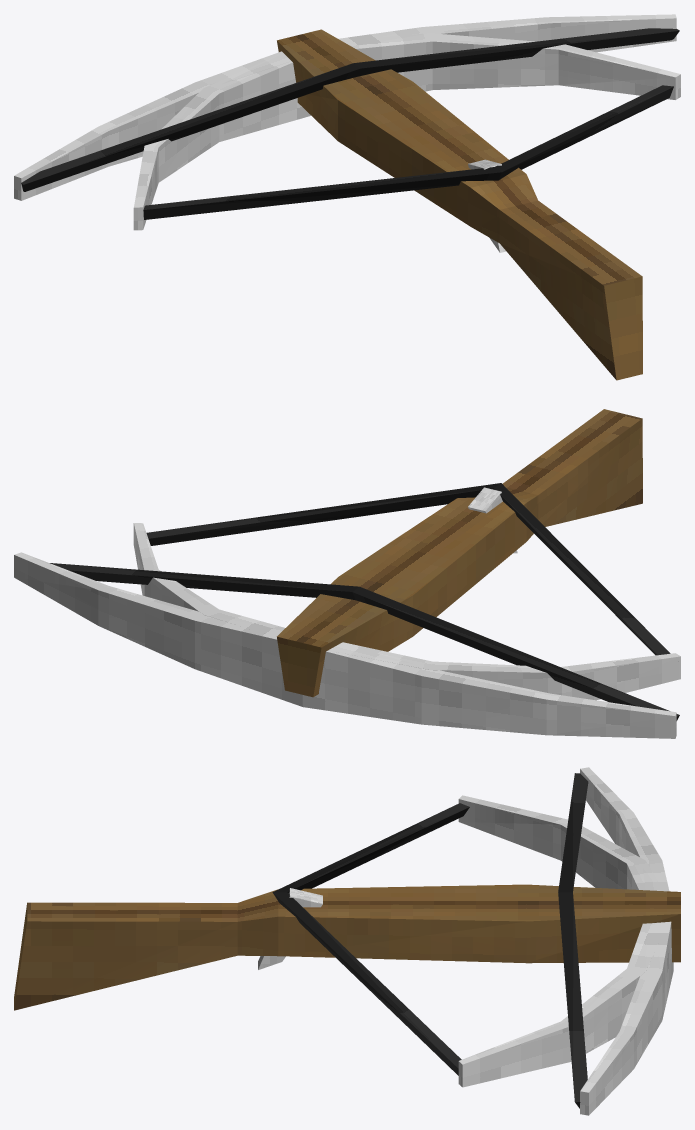
Rendered from Crossbows.glb.
3 views of the same model, one above another, from view 1: azimuth 30°, elevation 25°; view 2: azimuth 150°, elevation 25°; view 3: azimuth 270°, elevation 25° (orthographic).
Parts seen in each view (by area): view 1: Body, BowTensed, BowRelaxed, StringRelaxed, StringTensed; view 2: BowRelaxed, Body, BowTensed, StringRelaxed, StringTensed; view 3: Body, BowTensed, BowRelaxed, StringTensed, StringRelaxed.
Boxes of the visible parts, <box> form: Body: <box>277,29,642,380</box>; BowTensed: <box>133,33,680,230</box>; BowRelaxed: <box>14,14,676,200</box>; StringRelaxed: <box>21,28,679,191</box>; StringTensed: <box>143,85,673,219</box>; BowRelaxed: <box>14,552,676,738</box>; Body: <box>277,409,642,697</box>; BowTensed: <box>133,523,680,700</box>; StringRelaxed: <box>50,563,679,720</box>; StringTensed: <box>146,483,670,655</box>; Body: <box>14,884,680,1010</box>; BowTensed: <box>458,795,666,1087</box>; BowRelaxed: <box>580,767,673,1115</box>; StringTensed: <box>272,803,469,1075</box>; StringRelaxed: <box>558,773,588,1108</box>.
Size of the model in its own units: 1.19 by 0.1908 by 1.03.
Materials: 1 (1 with a texture image).
